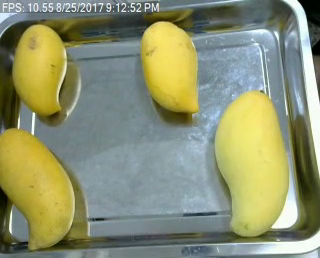Mango: (213, 84, 291, 239), (0, 125, 79, 249), (139, 19, 203, 114), (14, 21, 70, 119)
